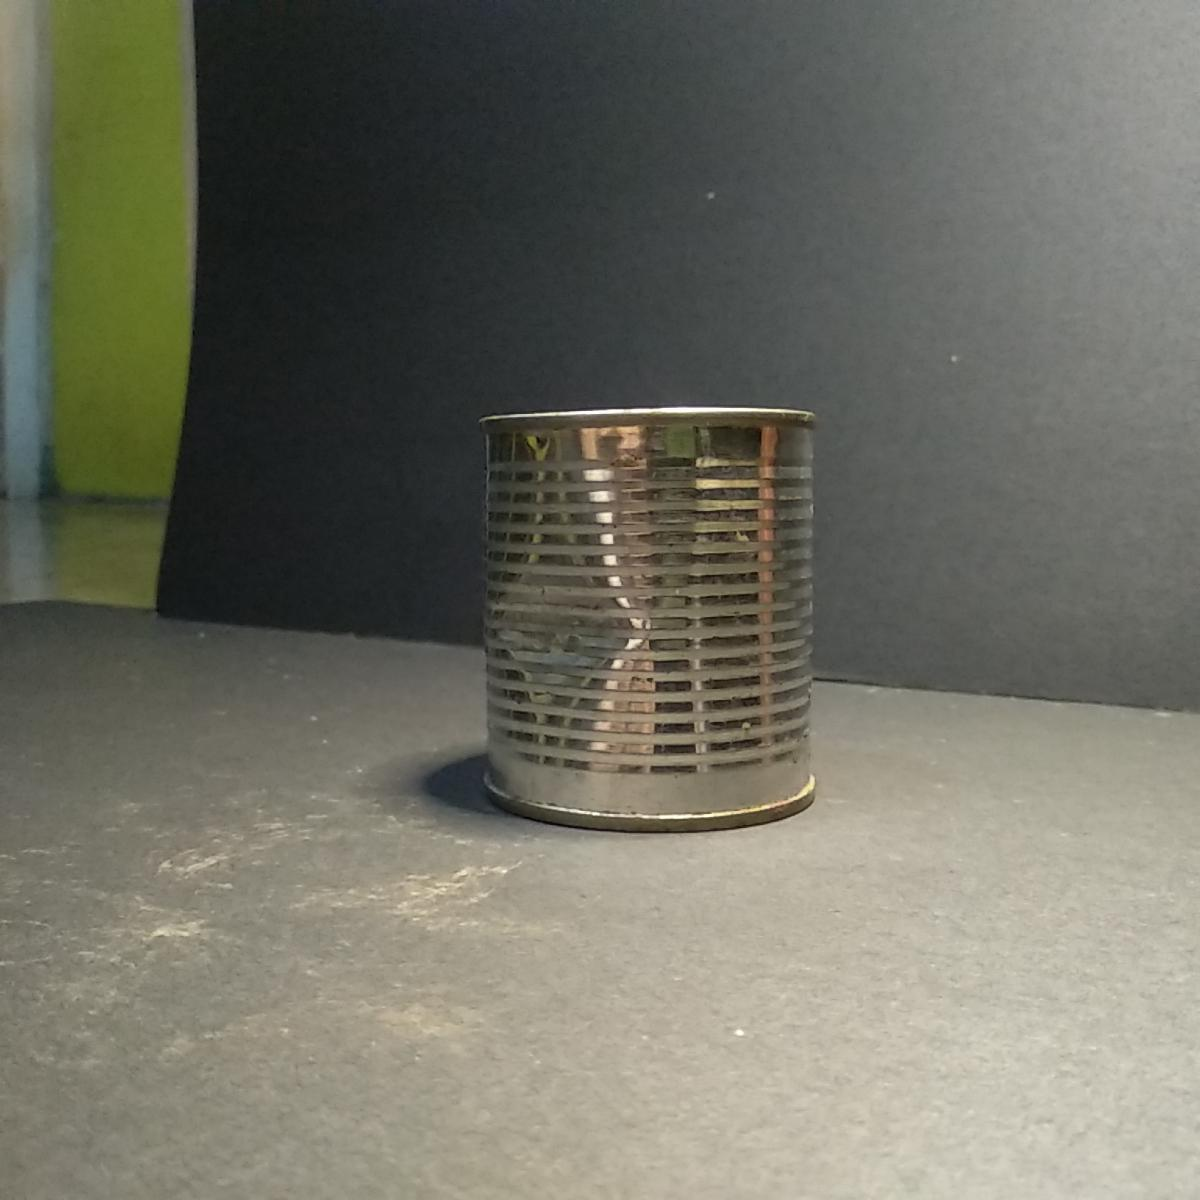Dented: (470, 388, 830, 844)
